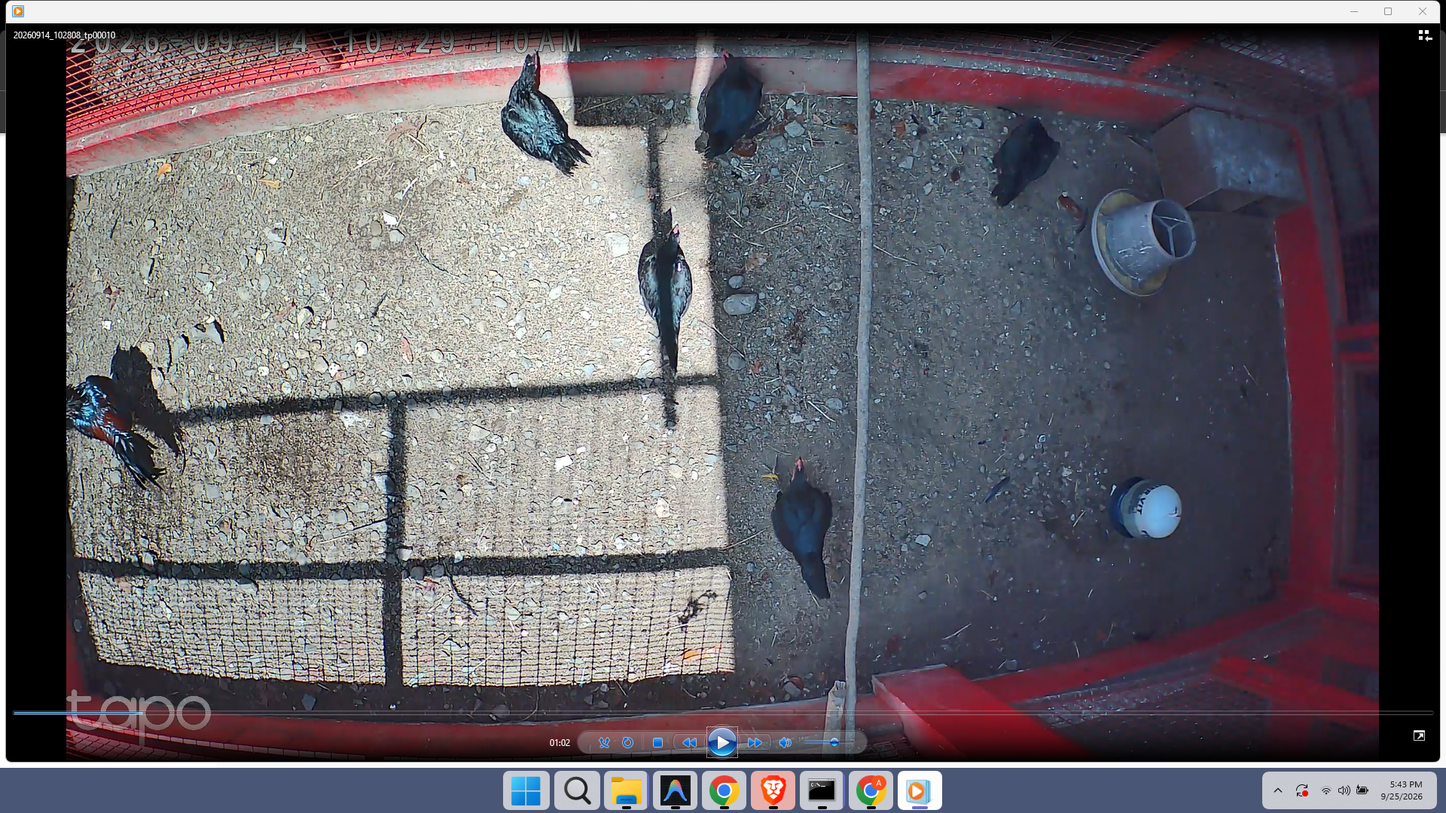Chicken: (752, 451, 841, 608), (495, 51, 590, 175), (637, 224, 695, 372), (980, 120, 1064, 212), (698, 46, 763, 162)
Drinker: (1110, 478, 1184, 538)
Feeder: (1091, 183, 1195, 301)
Leg_Band_Yellow: (761, 473, 780, 482)
Rooster: (65, 374, 173, 494)
